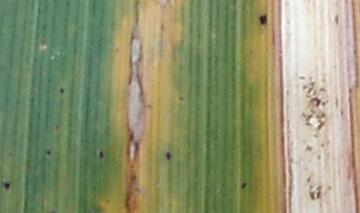tarspot: (308, 184, 323, 202), (314, 112, 326, 132), (308, 95, 321, 108), (257, 12, 269, 26), (303, 112, 312, 128), (307, 80, 315, 93), (164, 150, 172, 162), (158, 21, 167, 31), (304, 145, 313, 155), (2, 181, 12, 189), (44, 148, 52, 157), (334, 13, 340, 25), (304, 175, 312, 184), (297, 74, 306, 82), (58, 86, 65, 96), (240, 181, 247, 190), (97, 150, 103, 160), (301, 82, 307, 90), (178, 95, 184, 101)
